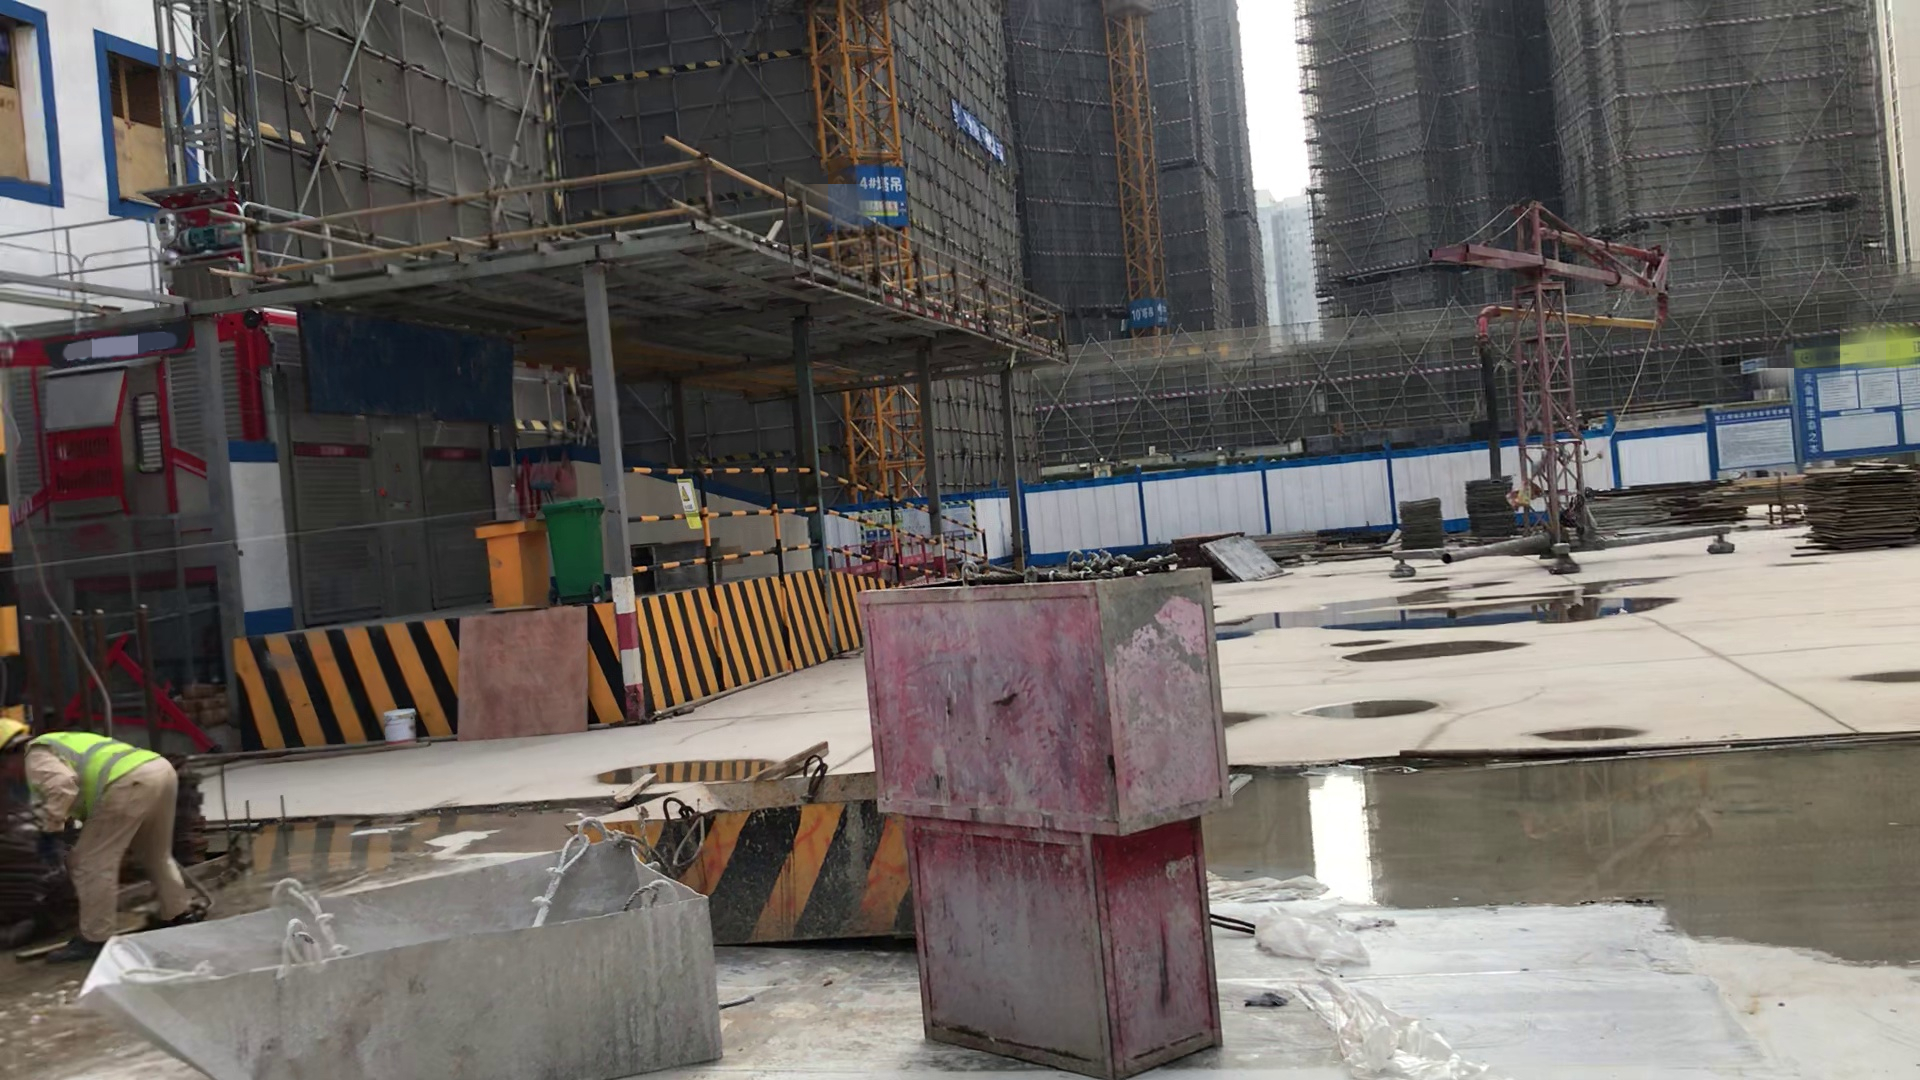board: (1788, 452, 1920, 547)
fence: (630, 441, 957, 578)
helmet: (3, 706, 24, 748)
hopper: (73, 834, 741, 1061), (570, 750, 920, 948)
person: (3, 719, 210, 958)
slogan: (938, 85, 1023, 161)
vest: (31, 734, 165, 782)
